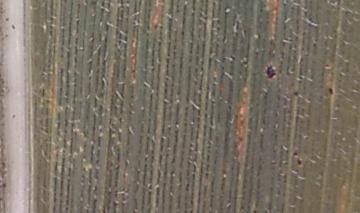tarspot: (264, 63, 278, 79), (327, 86, 335, 96), (292, 90, 300, 97), (295, 158, 302, 166), (184, 182, 190, 191), (293, 150, 300, 157), (204, 171, 209, 177), (251, 209, 257, 213)
